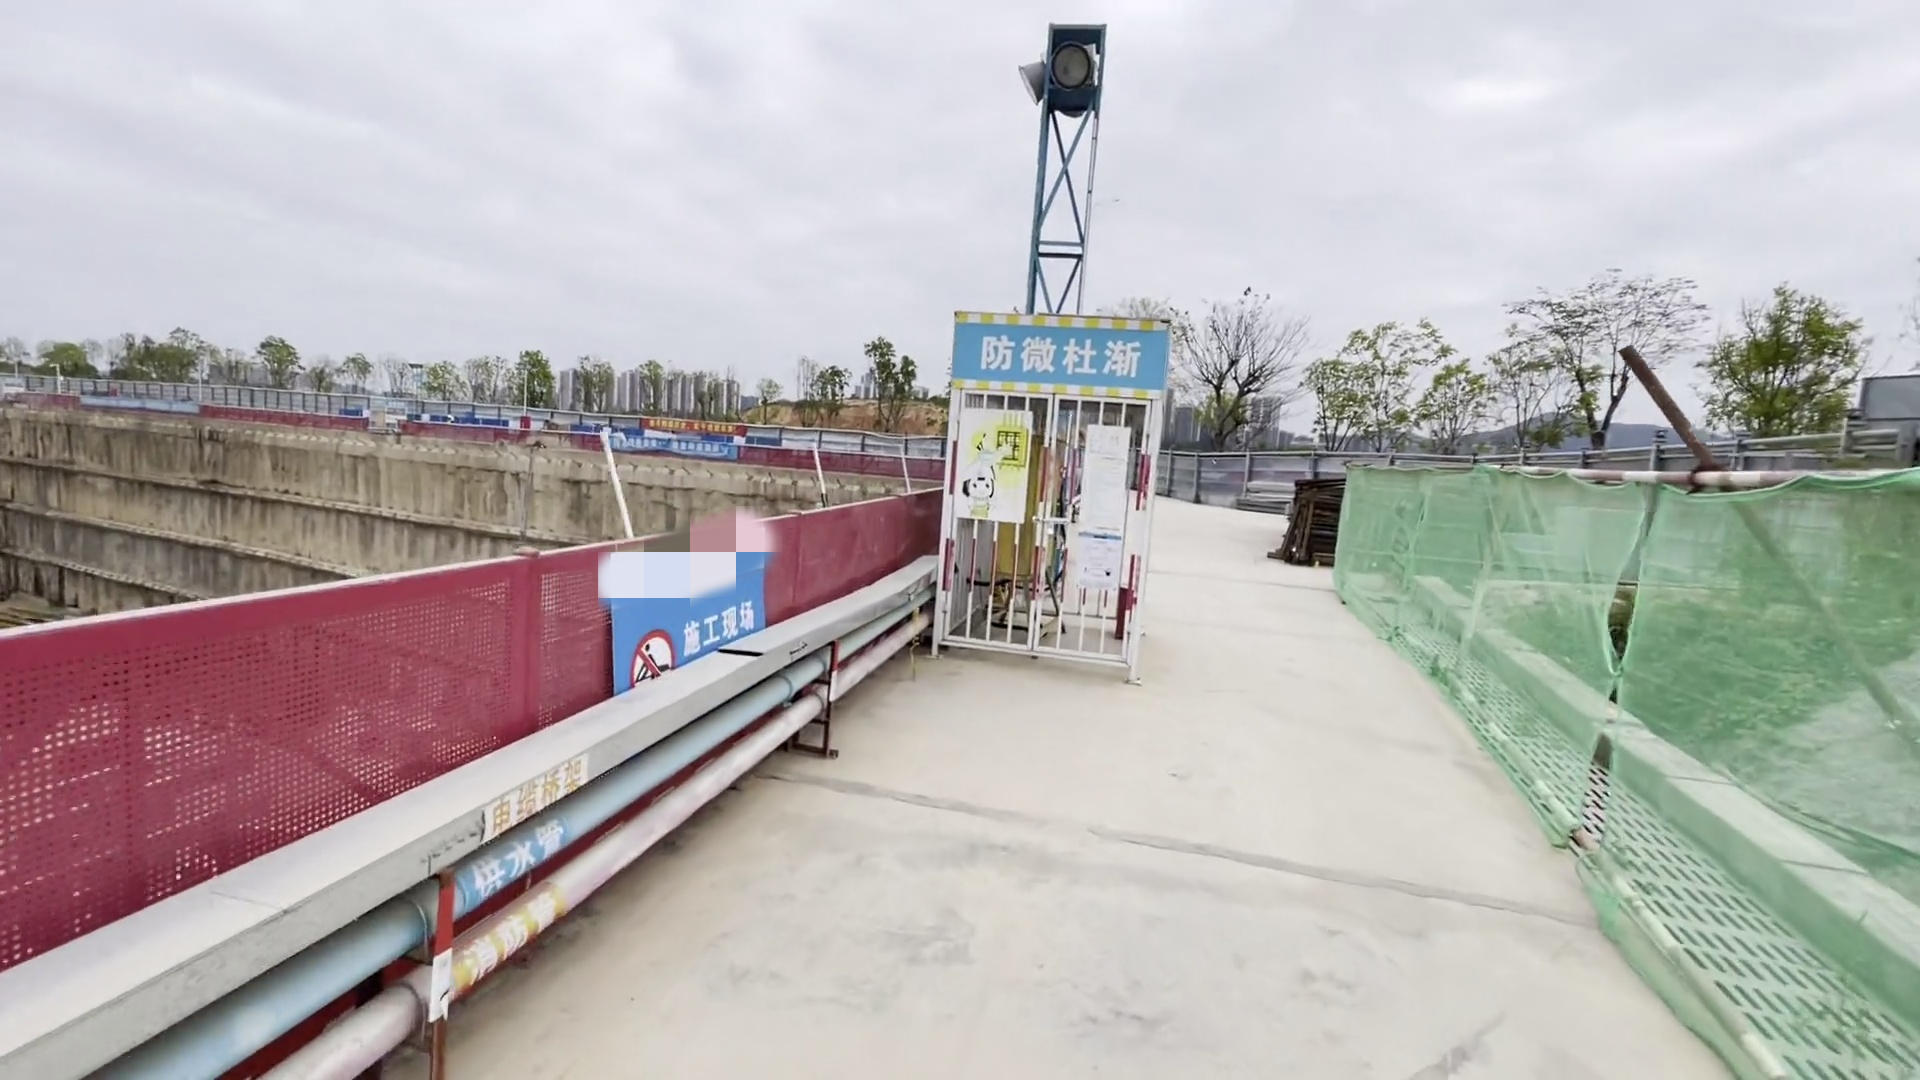fence: (1, 491, 938, 972)
slogan: (975, 318, 1162, 389), (634, 417, 742, 458), (671, 611, 769, 650)
